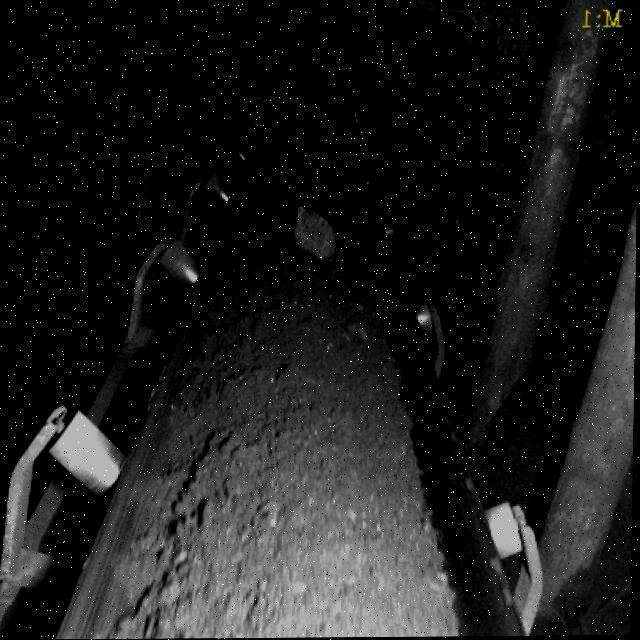large_sized_coal: (288, 204, 336, 261)
